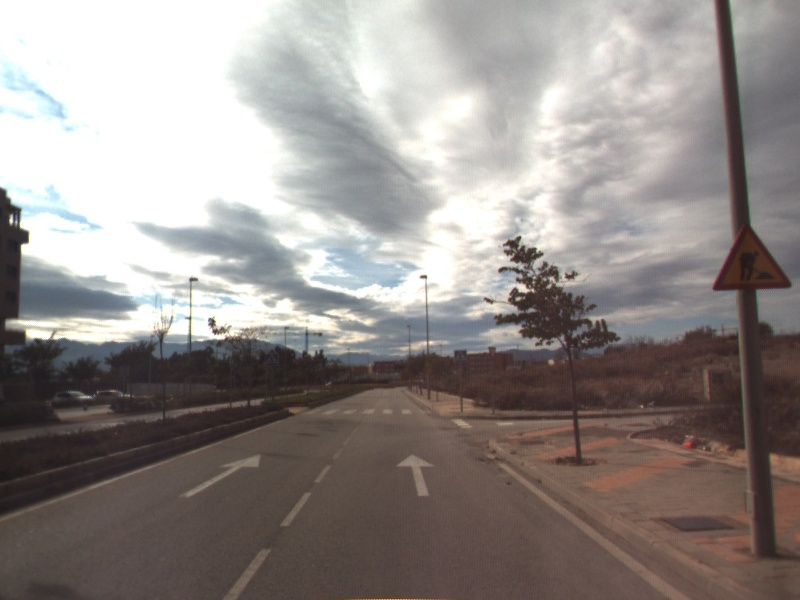STRAIGHT: (177, 452, 263, 499), (394, 451, 438, 498)
